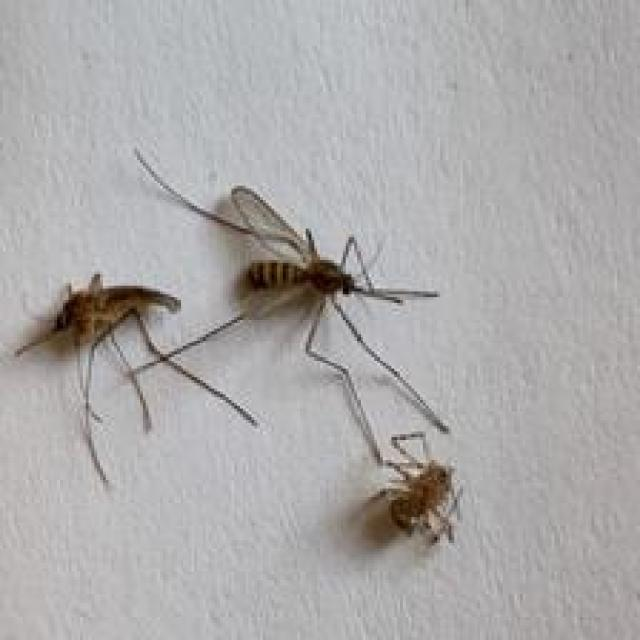Culex: (128, 146, 452, 468)
